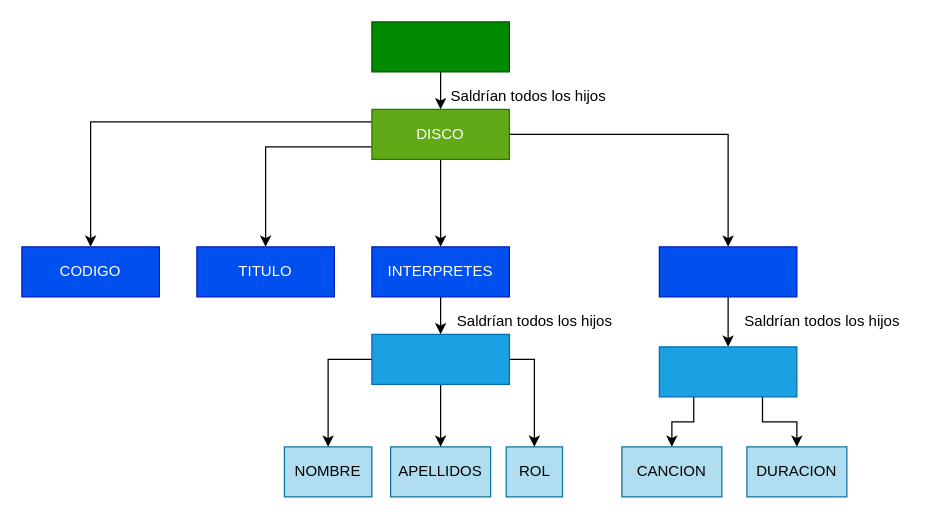
Some shapes in this 931 by 519 pixel diagram are drawn without their labels. The shapes that lost their labels are listed below. From the top down, each one's centre as x and y in pixels, then its label:
the point at 440,46: DISCOS
the point at 727,271: PISTAS
the point at 440,358: INTERPRETE
the point at 727,371: PISTA
